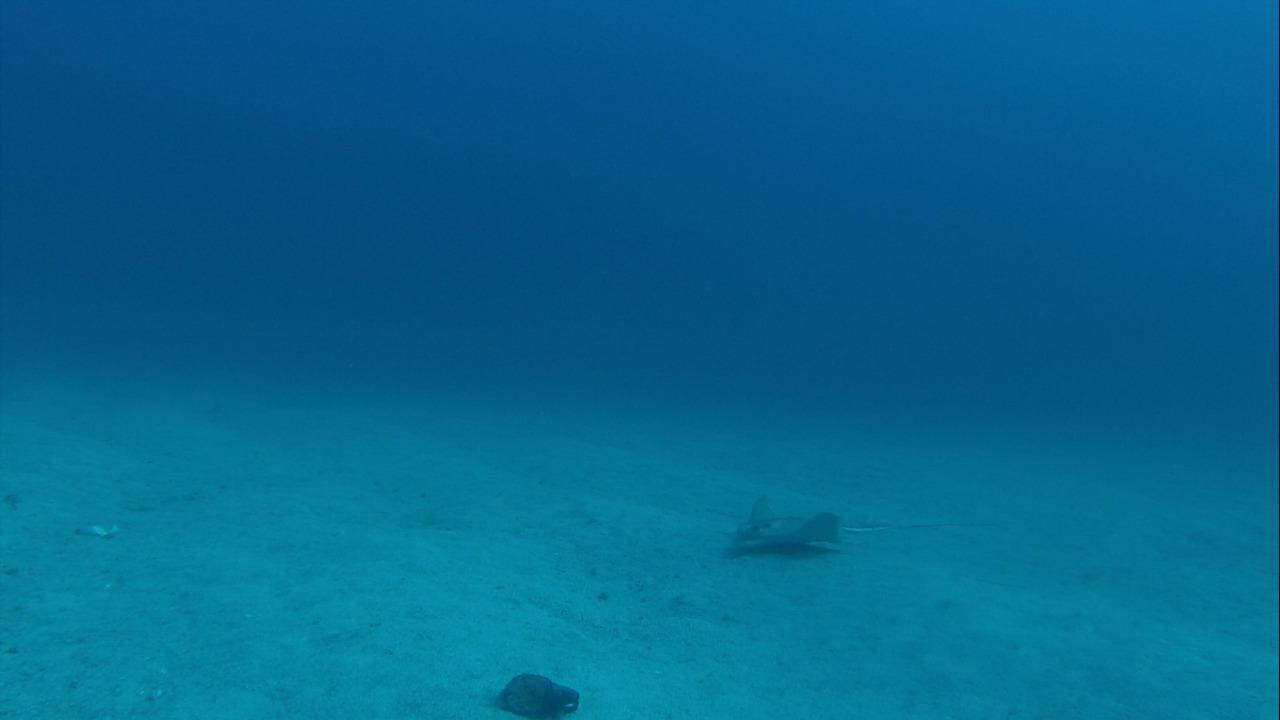myliobatis: (716, 490, 952, 560)
